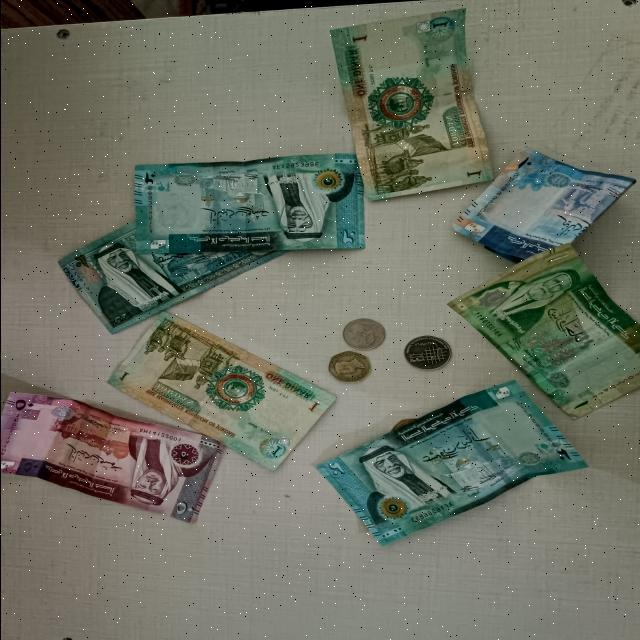1-dinar: (109, 314, 332, 470), (443, 245, 640, 418), (324, 10, 497, 200)
10-coins: (401, 336, 449, 370)
10-dinar: (451, 146, 637, 262)
20-dinar: (314, 382, 592, 552), (53, 219, 291, 337), (133, 153, 363, 253)
25-coins: (326, 352, 370, 382)
5-coins: (339, 319, 384, 351)
50-dinar: (0, 391, 225, 526)
